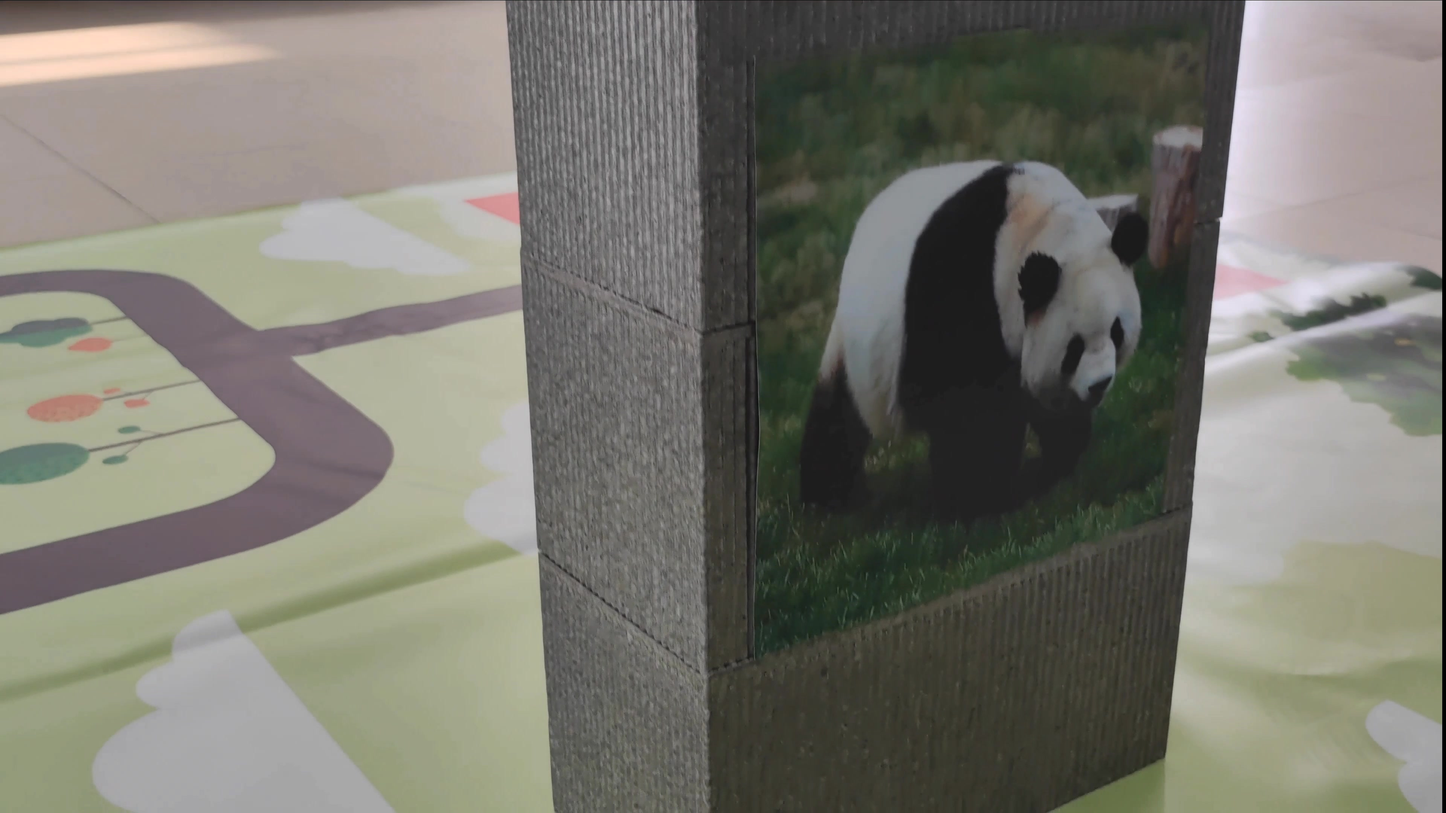panda: (757, 144, 1147, 521)
